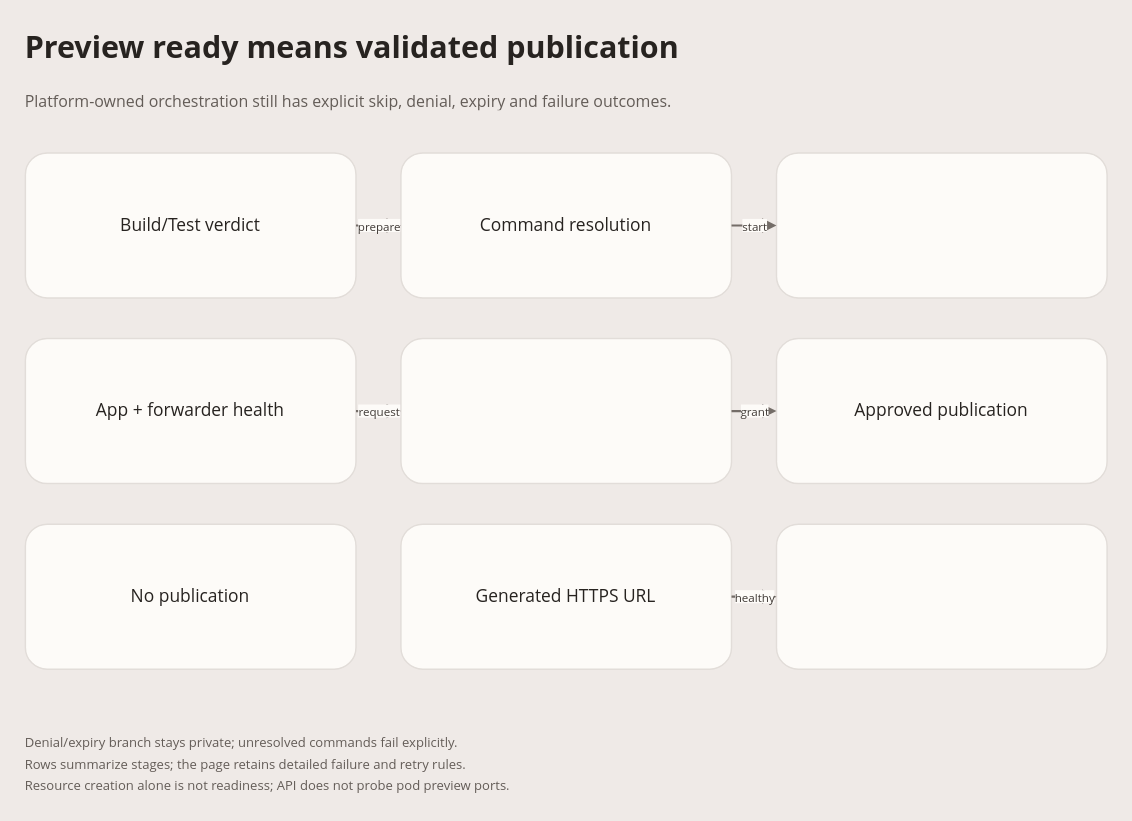
This 1132x821 diagram has some shape labels left out. Each missing label, with the box of its shape:
AgentHost runner: (775, 152, 1107, 298)
Preview approval: (399, 337, 732, 484)
preview_ready: (775, 523, 1107, 669)
